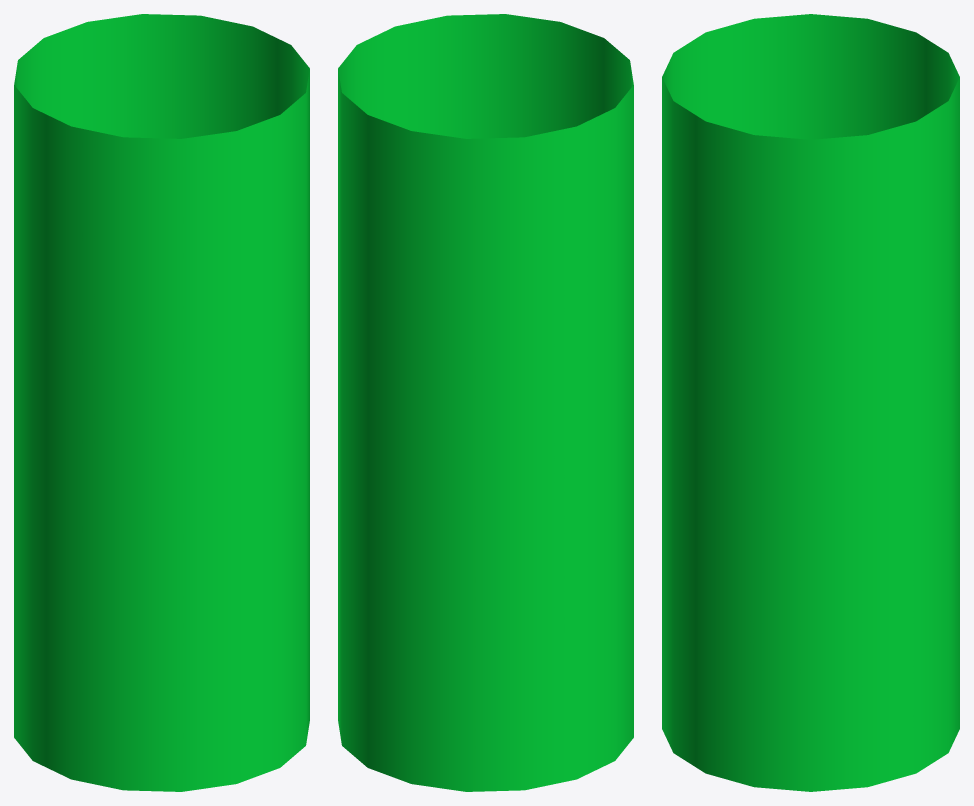
The model's file is sm_pipe_A.fbx.
3 renders of one model, left to right at view 1: azimuth 30°, elevation 25°; view 2: azimuth 150°, elevation 25°; view 3: azimuth 270°, elevation 25°, orthographic.
Parts seen in each view (by area): view 1: Straight.002; view 2: Straight.002; view 3: Straight.002.
Part boxes in pixels (x1,y1,x2,y2): Straight.002: (14, 14, 309, 791); Straight.002: (338, 14, 633, 791); Straight.002: (662, 14, 959, 791).
Size of the model in its own units: 62 by 150 by 62.
